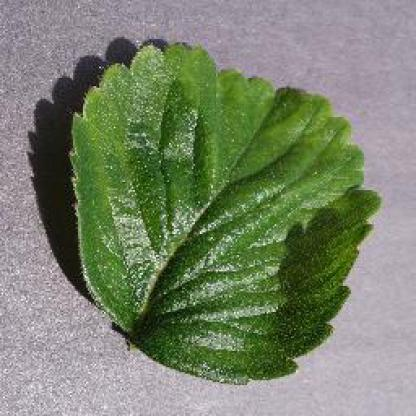healthy: (62, 34, 392, 397)
